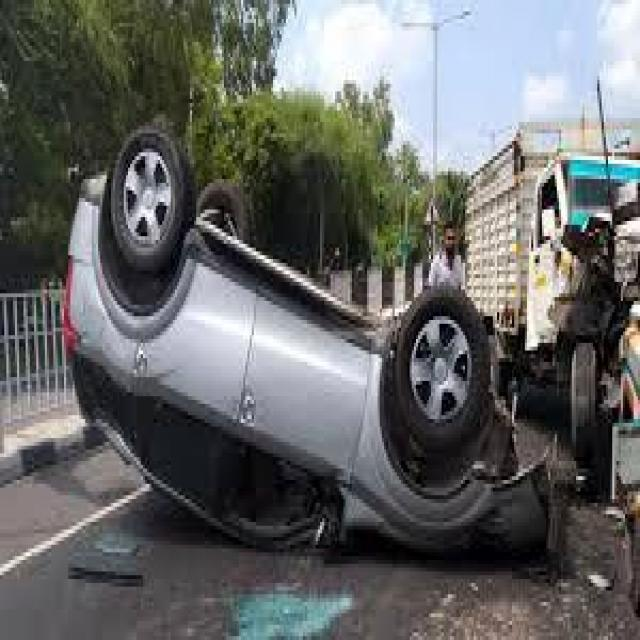multiple_accident: (30, 77, 640, 620)
